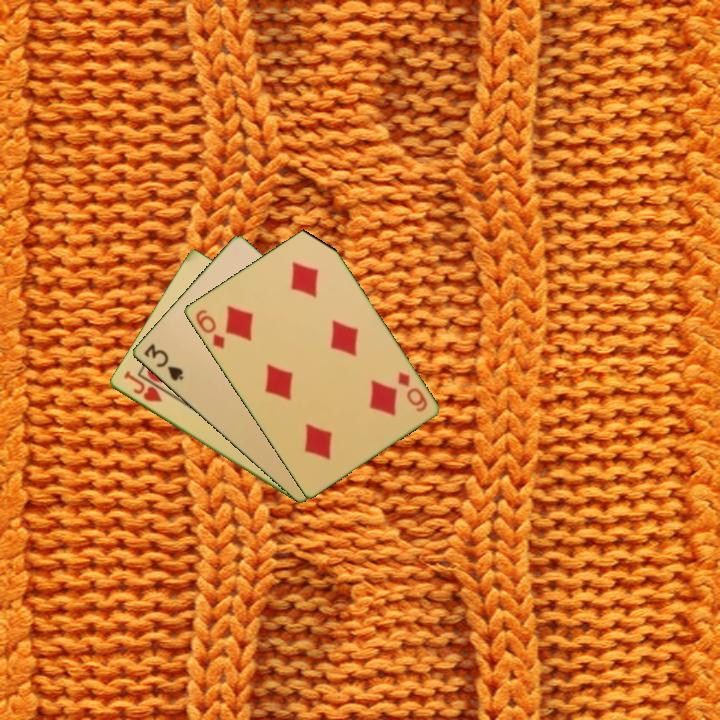3s: (140, 340, 186, 384)
6d: (191, 306, 228, 352), (394, 368, 430, 415)
Jh: (120, 368, 165, 405)
